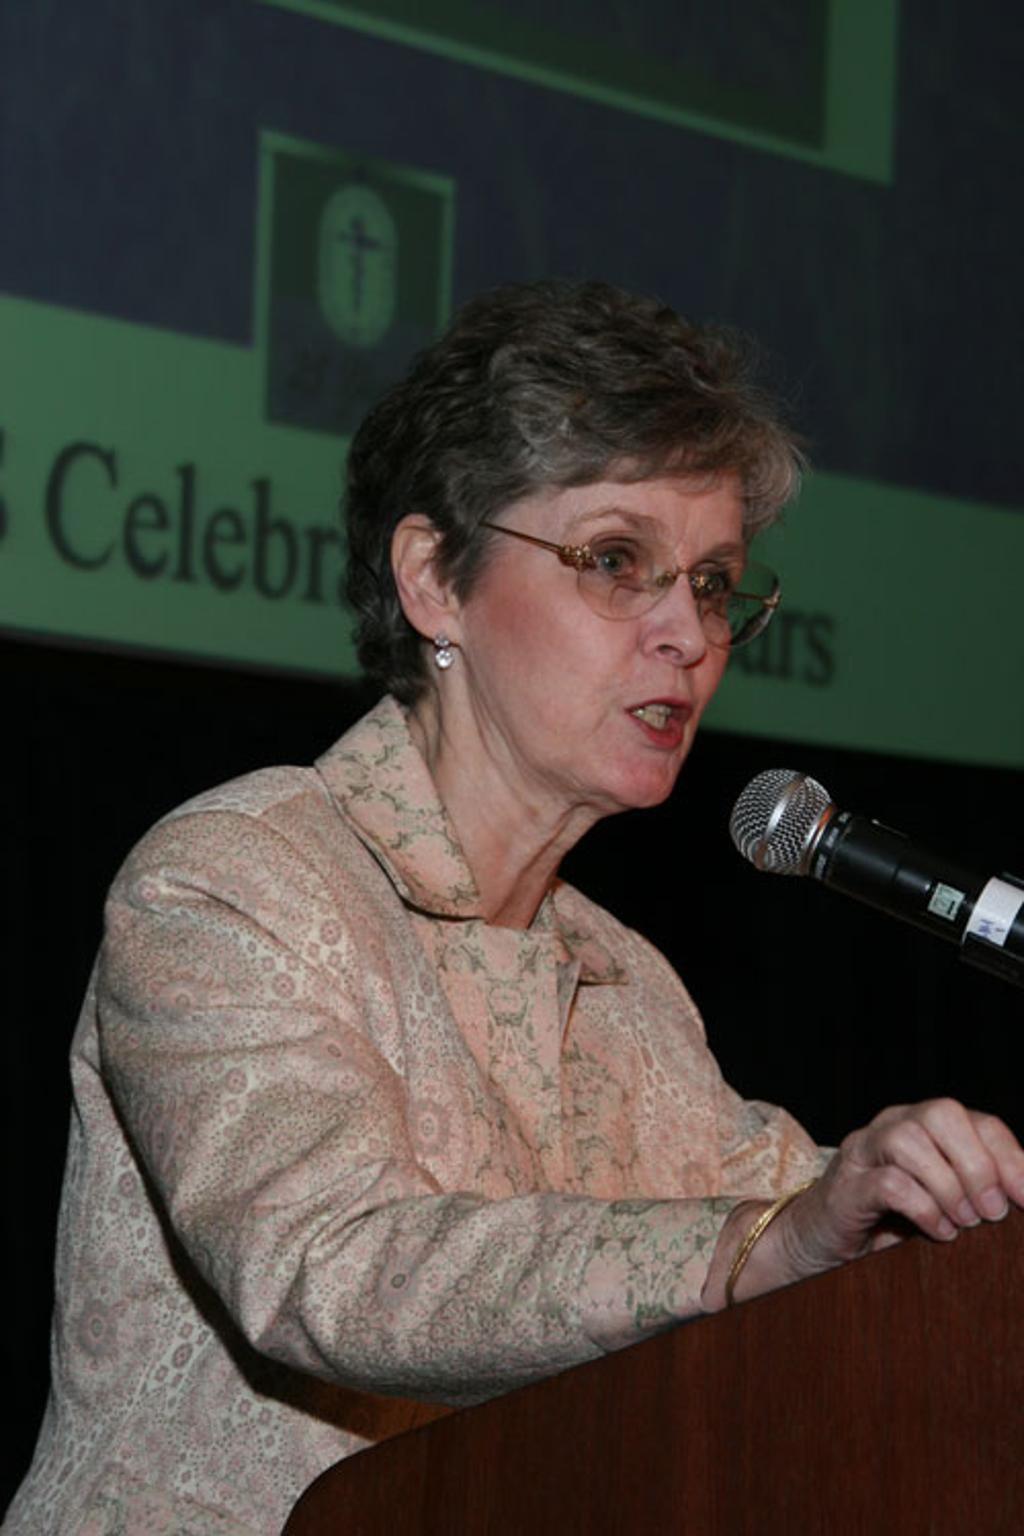face: (474, 441, 750, 807)
